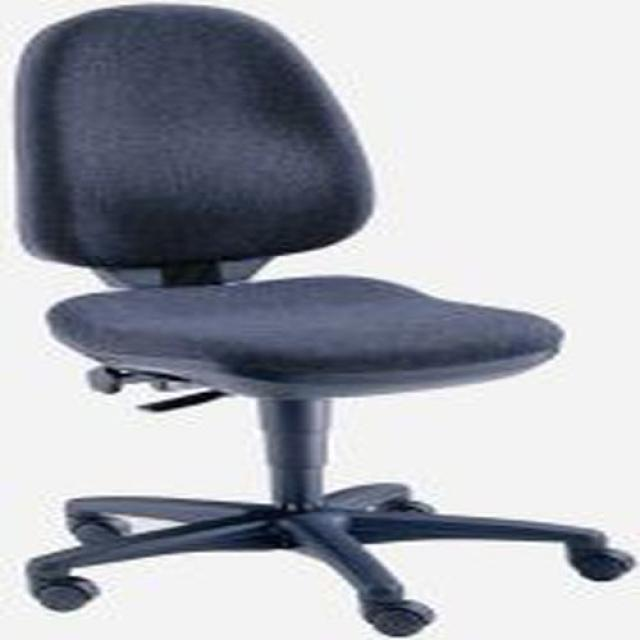swivelchair: (10, 3, 632, 640)
